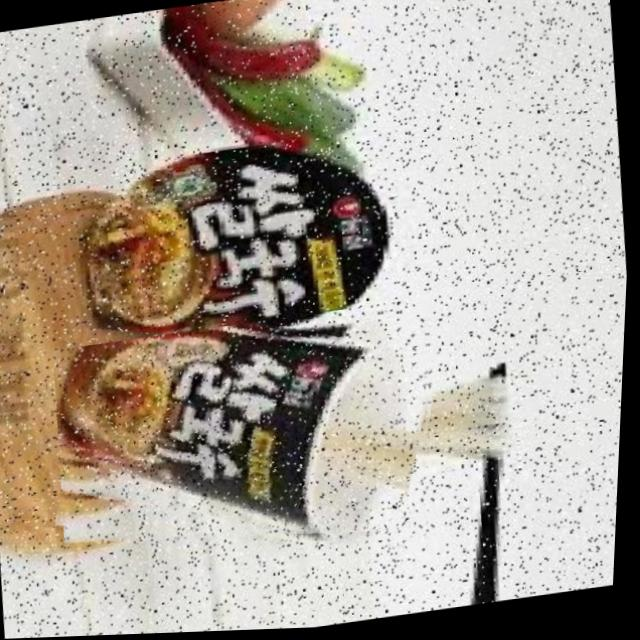Miscellaneous: (47, 300, 453, 582)
